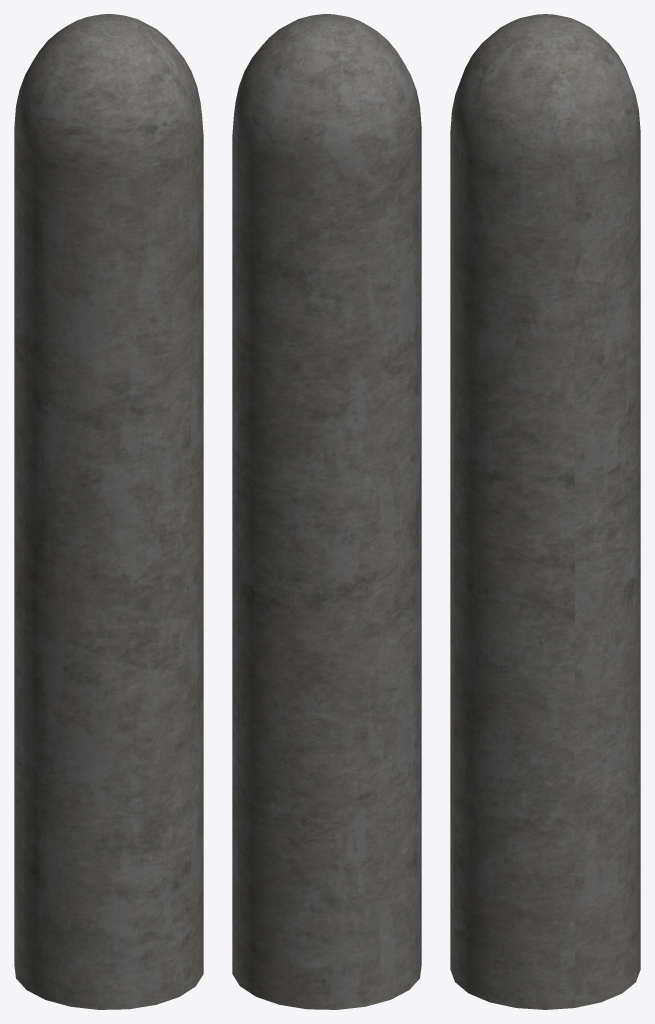
File: POST_TYPE1.fbx
3 renders of one model, left to right at view 1: azimuth 30°, elevation 25°; view 2: azimuth 150°, elevation 25°; view 3: azimuth 270°, elevation 25°, orthographic.
Visible parts, largest first — view 1: pSphere2; view 2: pSphere2; view 3: pSphere2.
Part boxes in pixels (<box>): pSphere2: <box>14,14,203,1009</box>; pSphere2: <box>232,14,421,1009</box>; pSphere2: <box>450,14,640,1009</box>.
Size of the model in its own units: 0.1629 by 0.8957 by 0.1629.
1 material, 1 textured.
